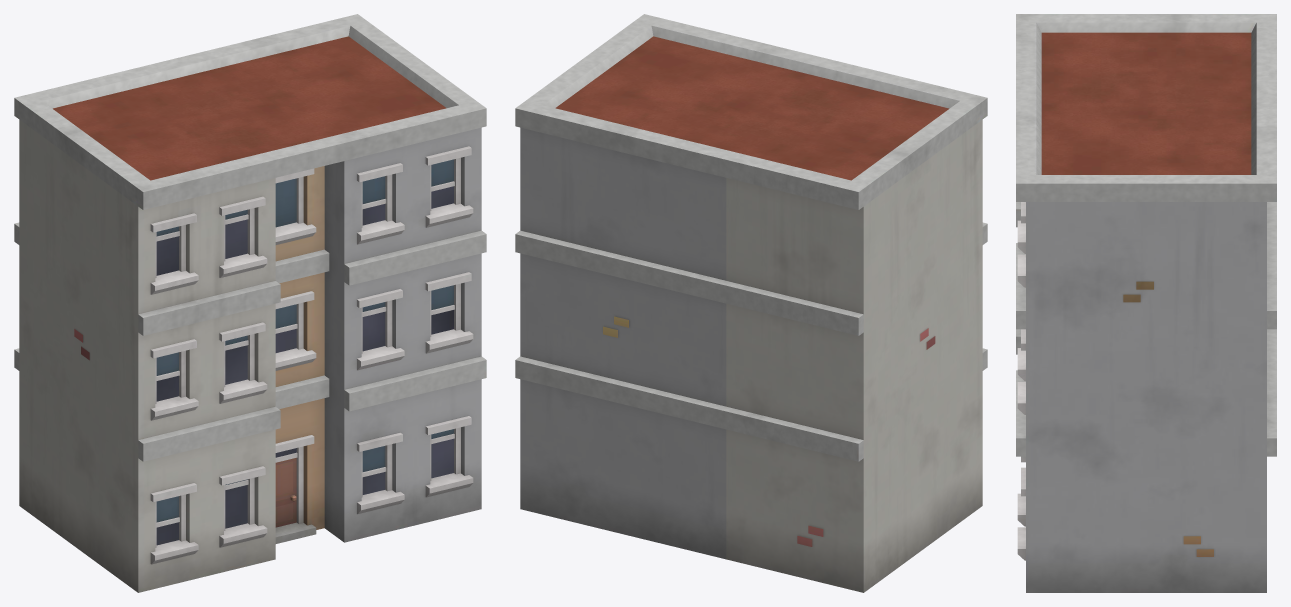
File: building_F.glb
3 views of the same model, side by side, from view 1: azimuth 30°, elevation 25°; view 2: azimuth 150°, elevation 25°; view 3: azimuth 270°, elevation 25° (orthographic).
Parts seen in each view (by area): view 1: building_F_withoutBase; view 2: building_F_withoutBase; view 3: building_F_withoutBase.
Part boxes in pixels (bbox=[...]): building_F_withoutBase: bbox=[14, 14, 486, 592]; building_F_withoutBase: bbox=[515, 14, 987, 592]; building_F_withoutBase: bbox=[1016, 14, 1276, 592].
Bounding box in the file's own units: 2.01 × 2.25 × 1.3.
Materials: 2 (2 with a texture image).
